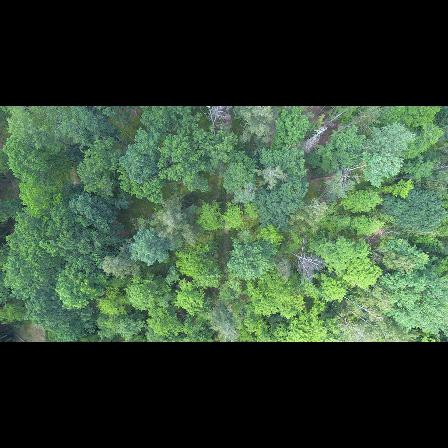Dead: (282, 241, 328, 276), (197, 105, 234, 141), (293, 122, 329, 152), (330, 165, 369, 189)
